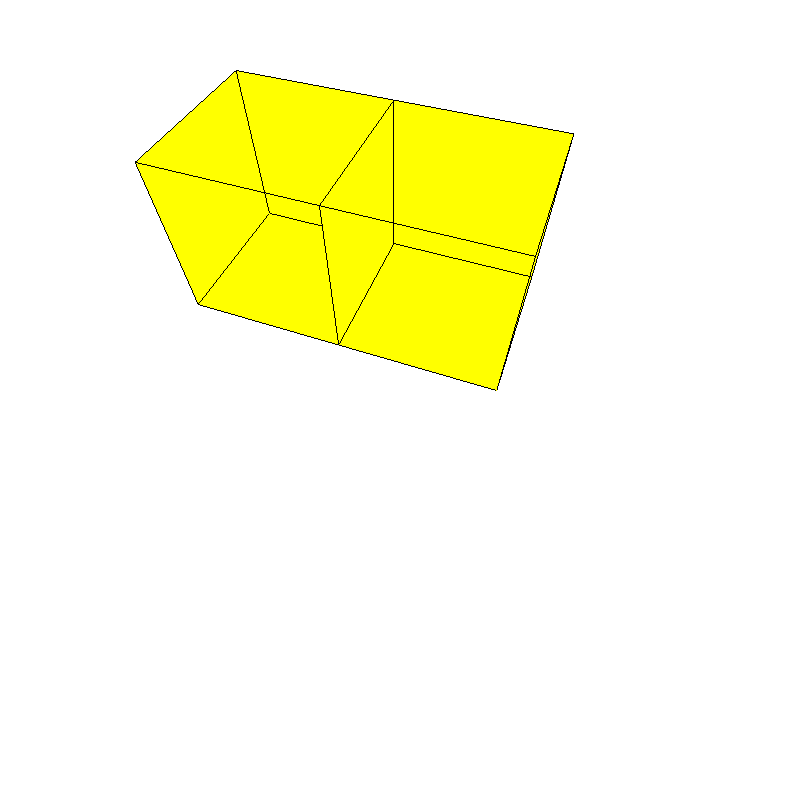YellowYellow: (129, 69, 577, 395)
